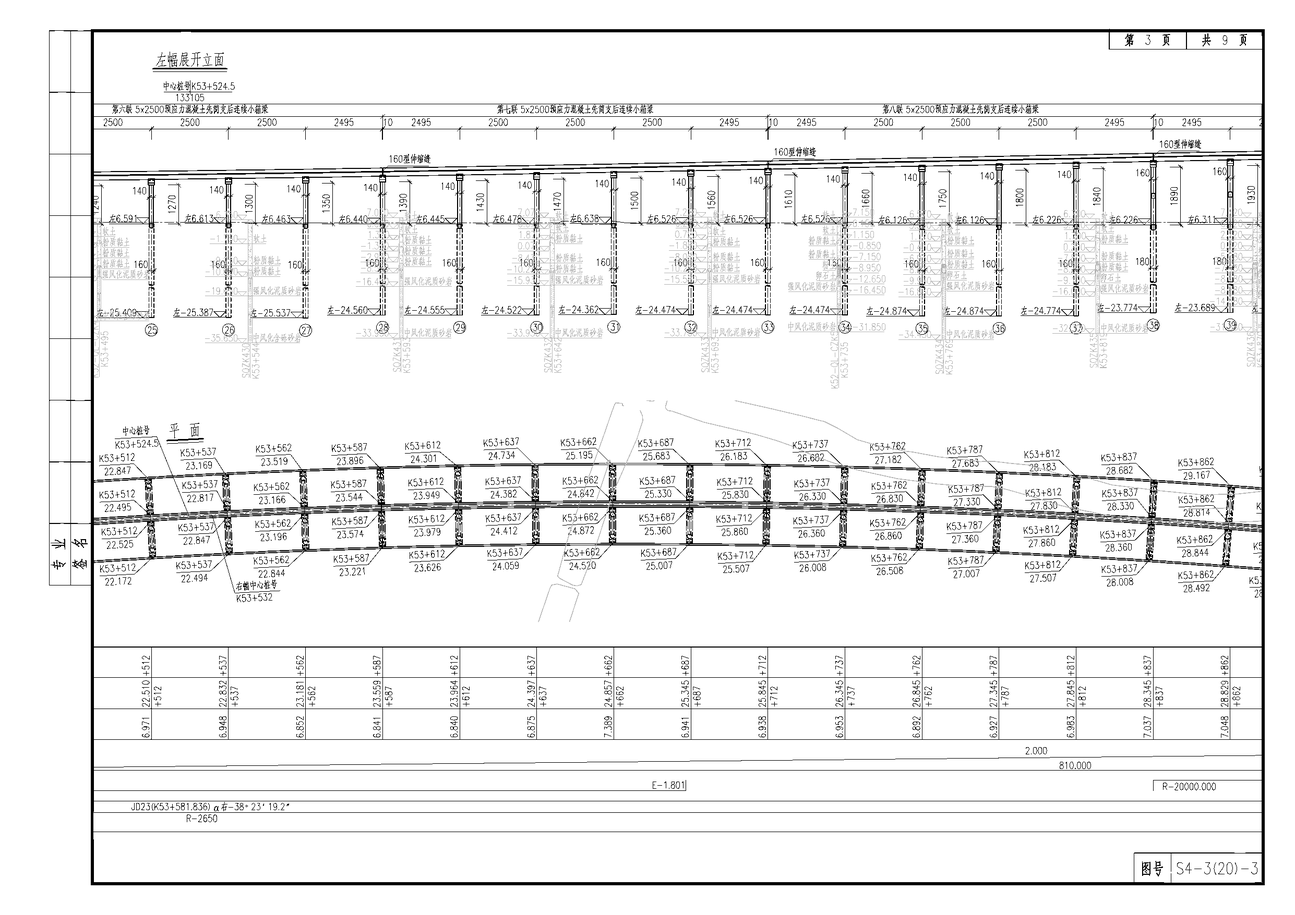A: (94, 44, 1265, 354)
